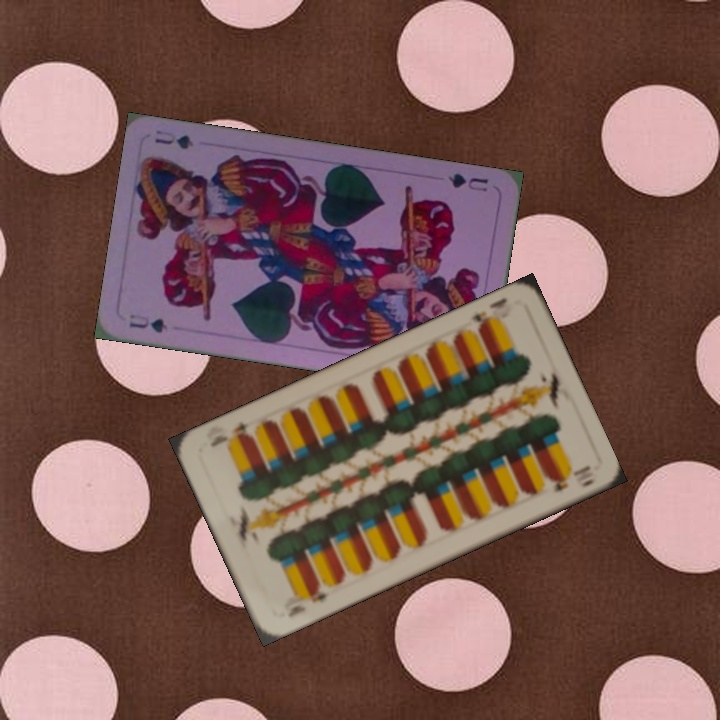E10: (467, 293, 510, 335), (283, 582, 330, 620)
GU: (444, 169, 491, 194), (125, 309, 170, 335)
